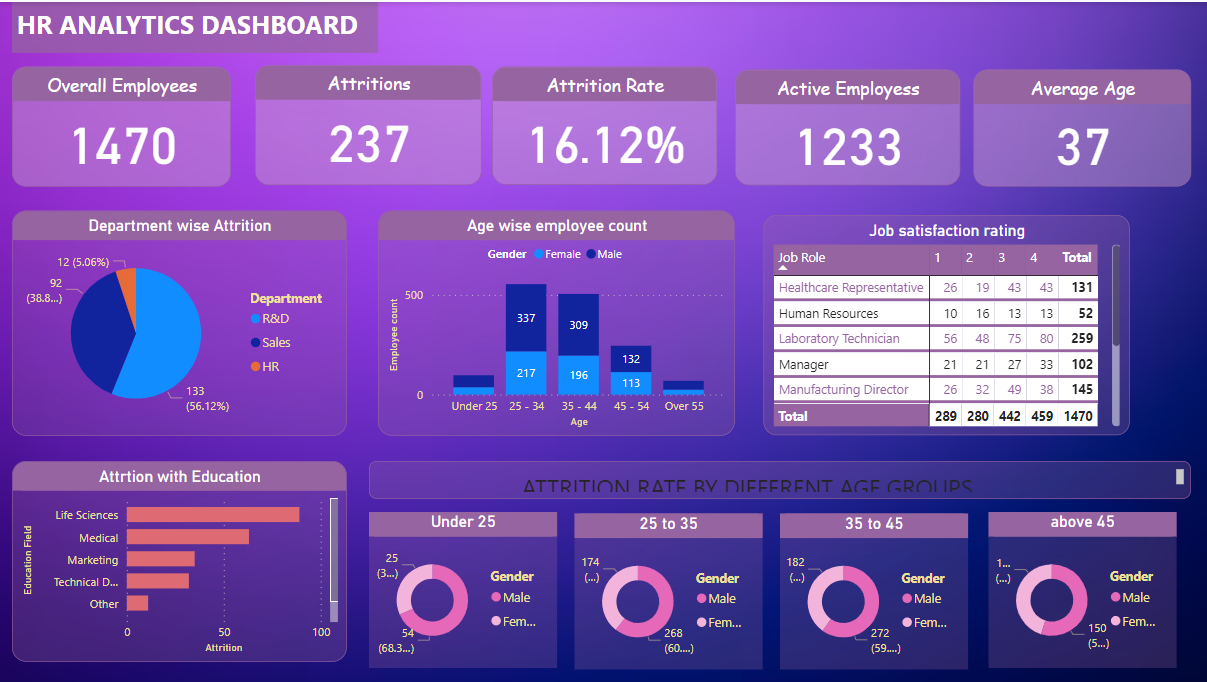

The dashboard page shown, as its layout file describes it:
{"tool":"powerbi","page":{"name":"Page 1","canvas":[1280,720],"ordinal":0},"visuals":[{"type":"card","title":"Overall Employees","fields":{"Values":["Sum(Table1.Employee Count)"]},"box":[12.7,68.3,232.1,127.2],"z":0},{"type":"card","title":"Attritions","fields":{"Values":["Sum(Table1.Attrition count)"]},"box":[270.2,66.8,240,127.2],"z":1000},{"type":"card","title":"Attrition Rate","fields":{"Values":["Table1.Attrition rate"]},"box":[521.3,68.3,238.4,125.6],"z":2000},{"type":"card","title":"Active Employess","fields":{"Values":["Table1.Active employees"]},"box":[778.8,71.5,238.4,122.4],"z":3000},{"type":"card","title":"Average Age","fields":{"Values":["Table1.Average age"]},"box":[1031.5,71.5,230.5,124],"z":4000},{"type":"pieChart","title":"Department wise Attrition","fields":{"Category":["Table1.Department"],"Y":["Sum(Table1.Attrition count)"]},"box":[12.7,220.9,354.4,238.4],"z":5000},{"type":"columnChart","title":"Age wise employee count","fields":{"Y":["Sum(Table1.Employee Count)"],"Series":["Table1.Gender"],"Category":["Table1.CF_age band"]},"box":[400.5,220.9,378.3,238.4],"z":6000},{"type":"pivotTable","title":"Job satisfaction rating","fields":{"Rows":["Table1.Job Role"],"Columns":["Table1.Job Satisfaction"],"Values":["Sum(Table1.Employee Count)"]},"box":[809,225.7,387.8,233.6],"z":7000},{"type":"barChart","title":"Attrtion with Education","fields":{"Category":["Table1.Education Field"],"Y":["Sum(Table1.Attrition count)"]},"box":[12.7,486.4,354.4,213],"z":8000},{"type":"donutChart","title":"Under 25","fields":{"Category":["Table1.Gender"],"Y":["Table1.Active employees"]},"box":[391.6,539.9,199.6,165.4],"z":9000},{"type":"textbox","box":[391.6,486.7,870.7,39.9],"z":10000},{"type":"donutChart","title":"25 to 35","fields":{"Category":["Table1.Gender"],"Y":["Table1.Active employees"]},"box":[608.3,541.8,199.6,165.4],"z":11000},{"type":"donutChart","title":"35 to 45","fields":{"Category":["Table1.Gender"],"Y":["Table1.Active employees"]},"box":[826.9,541.8,199.6,165.4],"z":12000},{"type":"donutChart","title":"above 45","fields":{"Category":["Table1.Gender"],"Y":["Table1.Active employees"]},"box":[1047.5,539.9,199.6,165.4],"z":13000},{"type":"textbox","box":[12.7,0,387.8,54],"z":14000}]}

Visuals, with their boxes in screenshot pixels (x1, y1, x2, y2), scaled from the page's 1280x720 canvas onto the 1207x682 screenshot:
"Overall Employees" card: box(12, 65, 231, 185)
"Attritions" card: box(255, 63, 481, 184)
"Attrition Rate" card: box(492, 65, 716, 184)
"Active Employess" card: box(734, 68, 959, 184)
"Average Age" card: box(973, 68, 1190, 185)
"Department wise Attrition" pieChart: box(12, 209, 346, 435)
"Age wise employee count" columnChart: box(378, 209, 734, 435)
"Job satisfaction rating" pivotTable: box(763, 214, 1129, 435)
"Attrtion with Education" barChart: box(12, 461, 346, 662)
"Under 25" donutChart: box(369, 511, 557, 668)
textbox: box(369, 461, 1190, 499)
"25 to 35" donutChart: box(574, 513, 762, 670)
"35 to 45" donutChart: box(780, 513, 968, 670)
"above 45" donutChart: box(988, 511, 1176, 668)
textbox: box(12, 0, 378, 51)
